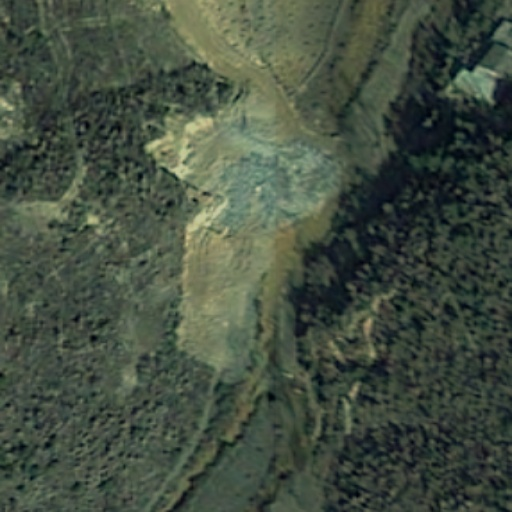landslide: (156, 91, 347, 379)
